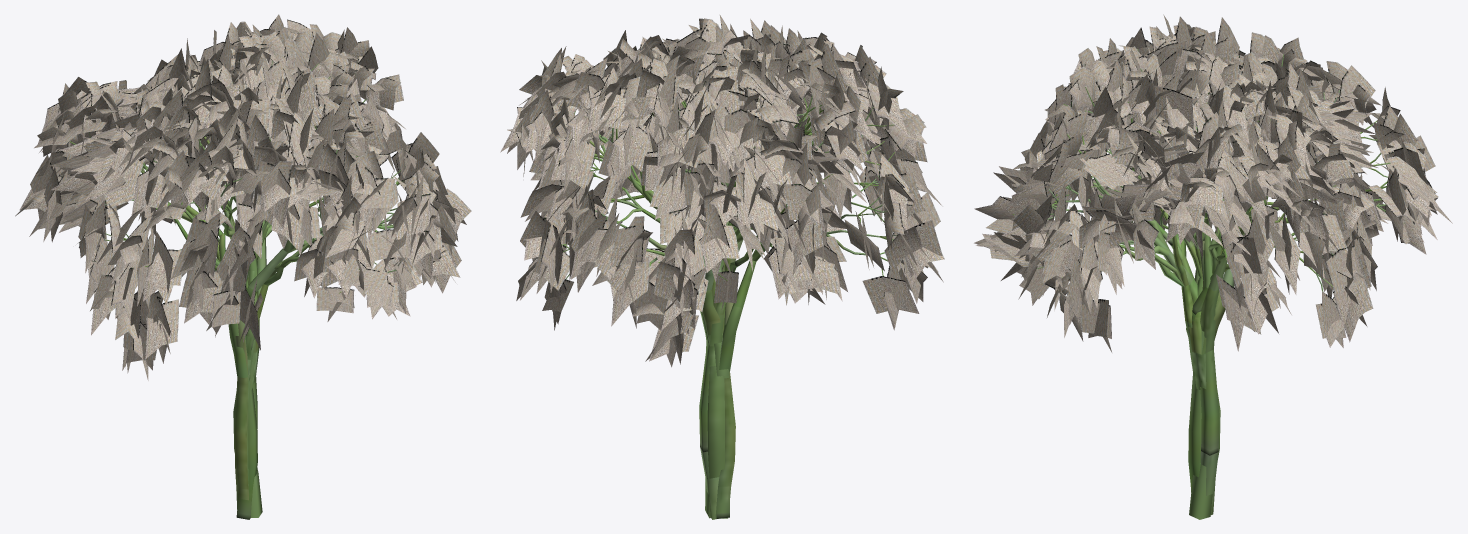
The model's file is tree5.glb.
3 renders of one model, left to right at view 1: azimuth 30°, elevation 25°; view 2: azimuth 150°, elevation 25°; view 3: azimuth 270°, elevation 25°, orthographic. The views are drawn at different scales.
Parts seen in each view (by area): view 1: Mossy_Tr; view 2: Mossy_Tr; view 3: Mossy_Tr.
Part boxes in pixels (bbox=[...]): Mossy_Tr: bbox=[15, 14, 471, 519]; Mossy_Tr: bbox=[500, 14, 944, 519]; Mossy_Tr: bbox=[974, 14, 1452, 519].
Size of the model in its own units: 19.21 by 24.69 by 22.66.
Materials: 1 (1 with a texture image).
